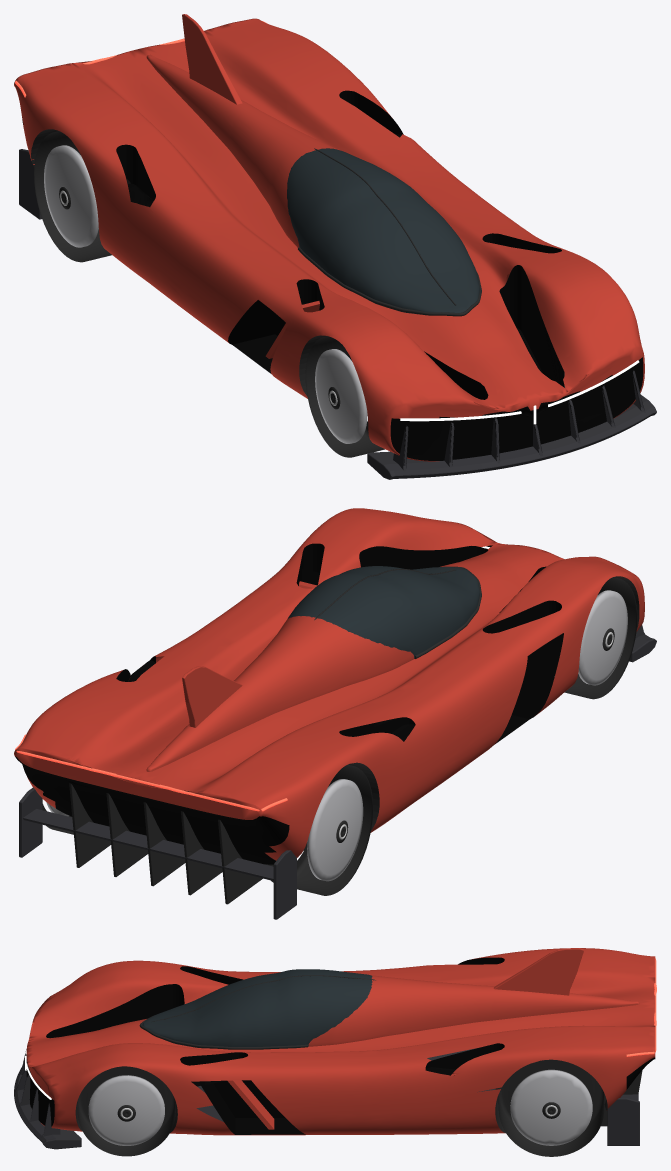
File: endurance.glb
3 renders of one model, top to bottom at view 1: azimuth 30°, elevation 25°; view 2: azimuth 150°, elevation 25°; view 3: azimuth 270°, elevation 25°, orthographic. The views are drawn at different scales.
Parts seen in each view (by area): view 1: Body, Glass_Front, Loose_Splitter, Wheel_RR, Wheel_FR, Loose_Fin, Loose_Diffuser; view 2: Body, Loose_Diffuser, Glass_Front, Wheel_RR, Wheel_FR, Loose_Fin, Light_R1; view 3: Body, Glass_Front, Wheel_RL, Wheel_FL, Loose_Fin, Loose_Splitter, Loose_Diffuser.
Boxes of the visible parts, <box> form: Body: <box>14,18,644,461</box>; Glass_Front: <box>287,148,479,314</box>; Loose_Splitter: <box>367,370,656,479</box>; Wheel_RR: <box>34,131,111,262</box>; Wheel_FR: <box>305,336,384,457</box>; Loose_Fin: <box>182,14,242,104</box>; Loose_Diffuser: <box>19,149,41,219</box>; Body: <box>14,508,644,866</box>; Loose_Diffuser: <box>19,783,296,919</box>; Glass_Front: <box>287,566,479,658</box>; Wheel_RR: <box>265,764,373,895</box>; Wheel_FR: <box>564,577,637,699</box>; Loose_Fin: <box>182,666,242,727</box>; Light_R1: <box>15,734,287,811</box>; Body: <box>26,948,655,1135</box>; Glass_Front: <box>142,969,372,1048</box>; Wheel_RL: <box>498,1069,604,1156</box>; Wheel_FL: <box>77,1075,175,1156</box>; Loose_Fin: <box>493,948,583,995</box>; Loose_Splitter: <box>14,1049,81,1149</box>; Loose_Diffuser: <box>601,1070,642,1145</box>.
Size of the model in its own units: 1.97 by 1.32 by 4.91.
